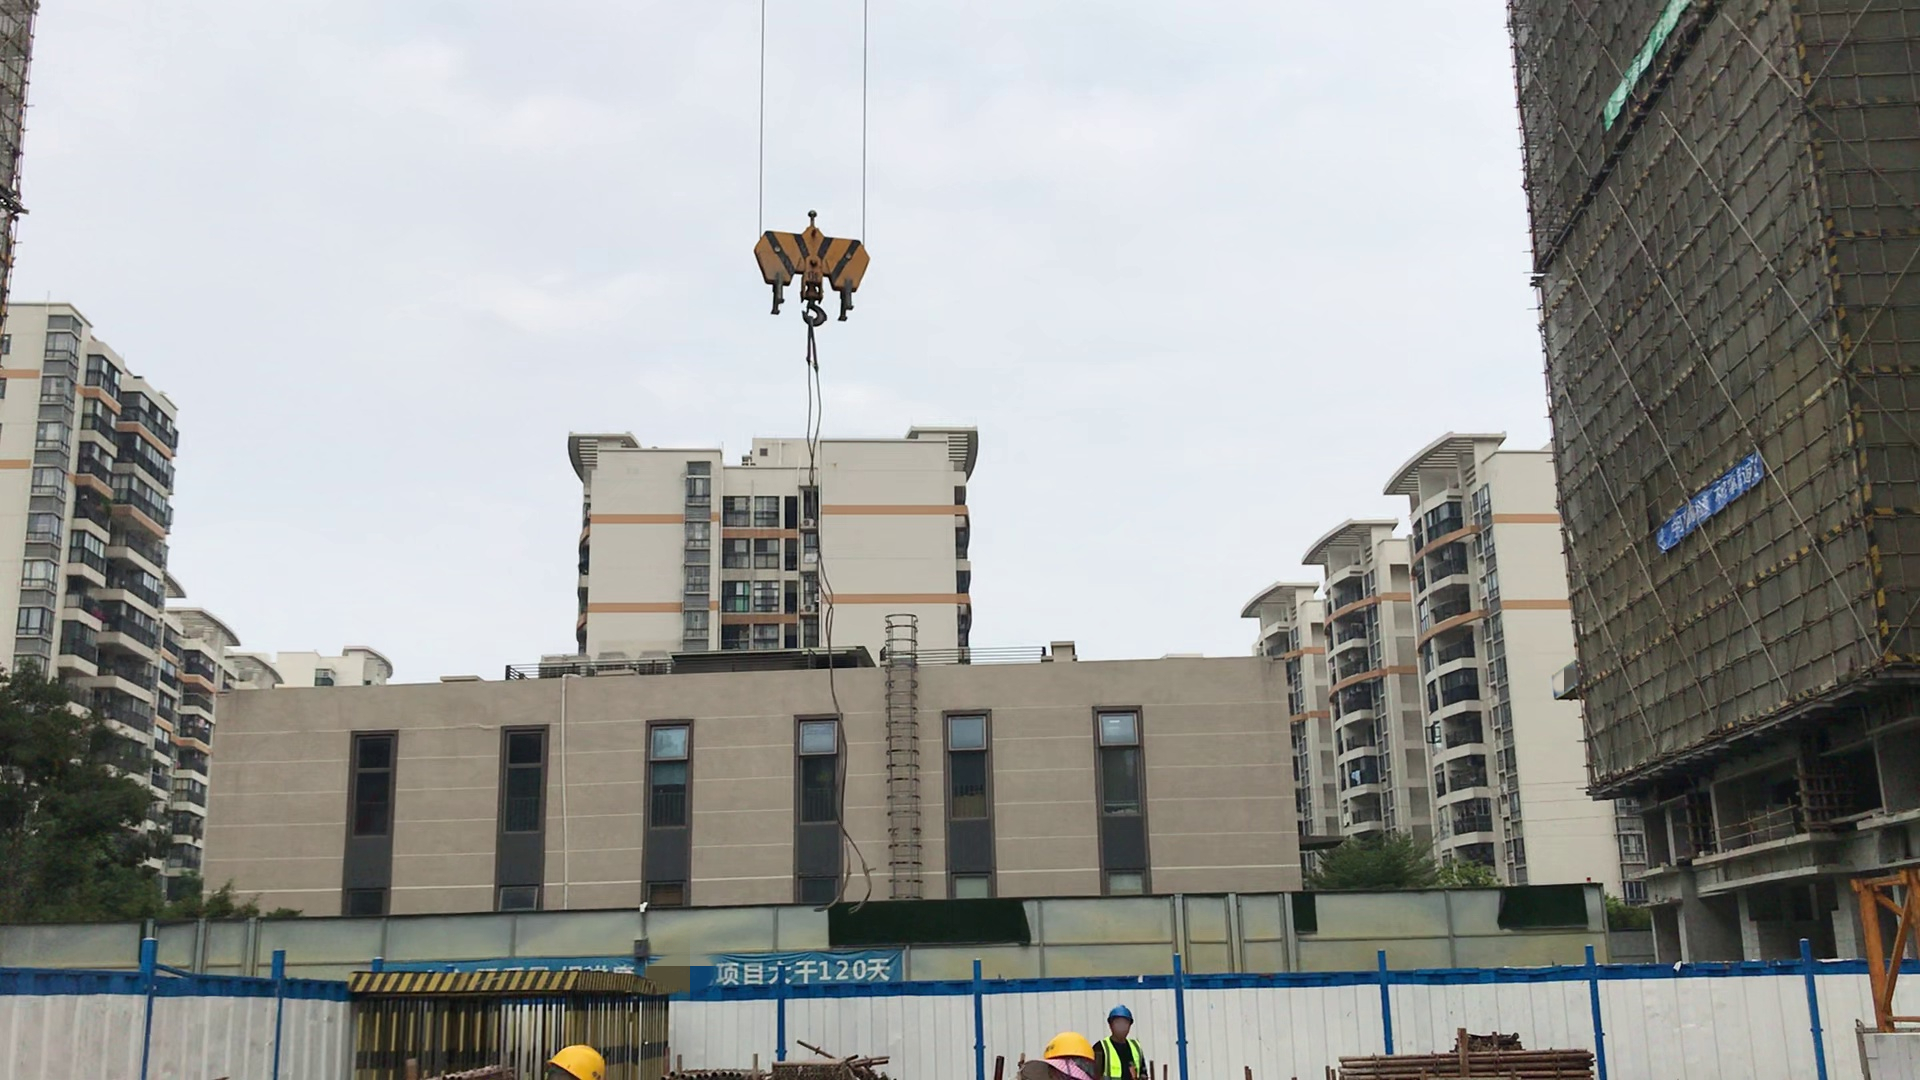helmet: (543, 1041, 611, 1080), (1040, 1031, 1092, 1063), (1105, 1003, 1135, 1027)
hook: (751, 206, 870, 340)
person: (1092, 1007, 1152, 1080), (1018, 1025, 1095, 1080)
scaffold: (1333, 1051, 1602, 1080)
slogan: (1594, 1, 1711, 129), (1654, 443, 1775, 551), (707, 943, 910, 986)
vest: (1100, 1038, 1147, 1077)
